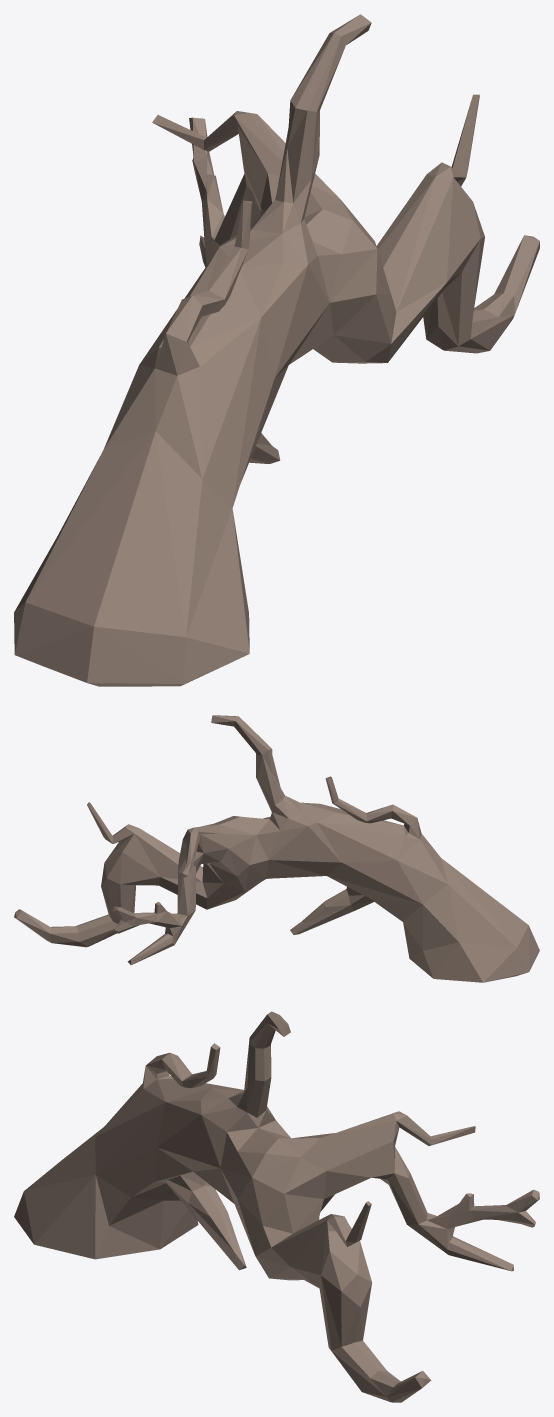
The model's file is Desert_tree.fbx.
3 views of the same model, one above another, from view 1: azimuth 30°, elevation 25°; view 2: azimuth 150°, elevation 25°; view 3: azimuth 270°, elevation 25° (orthographic). The views are drawn at different scales.
Visible parts, largest first — view 1: dead_tree_01; view 2: dead_tree_01; view 3: dead_tree_01.
Part boxes in pixels (x1,y1,x2,y2): dead_tree_01: [14, 14, 539, 686]; dead_tree_01: [14, 715, 539, 982]; dead_tree_01: [14, 1011, 539, 1402].
Size of the model in its own units: 13.64 by 8.21 by 11.62.
